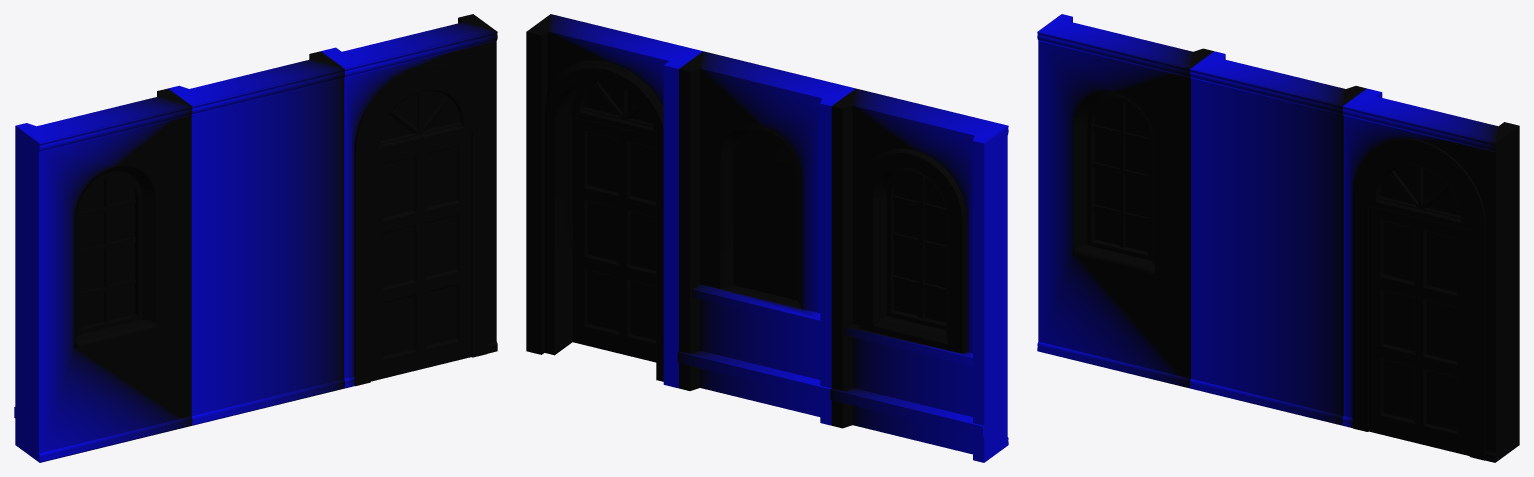
The model's file is oldDesign.fbx.
The picture shows the model from 3 angles, left to right: view 1: azimuth 30°, elevation 25°; view 2: azimuth 150°, elevation 25°; view 3: azimuth 330°, elevation 25°; orthographic projection.
Visible parts, largest first — view 1: OldDesign_window, OldDesign_solid, OldDesign_doorway; view 2: OldDesign_window, OldDesign_solid, OldDesign_doorway; view 3: OldDesign_doorway, OldDesign_window, OldDesign_solid.
Boxes of the visible parts, box(x1,y1,x2,y2) form: OldDesign_window: box(14, 88, 192, 462); OldDesign_solid: box(168, 51, 344, 425); OldDesign_doorway: box(321, 14, 497, 388); OldDesign_window: box(830, 88, 1008, 462); OldDesign_solid: box(677, 51, 855, 425); OldDesign_doorway: box(526, 14, 702, 388); OldDesign_doorway: box(1342, 88, 1519, 462); OldDesign_window: box(1037, 14, 1213, 388); OldDesign_solid: box(1190, 51, 1366, 425).
Size of the model in its own units: 450 by 300 by 47.
